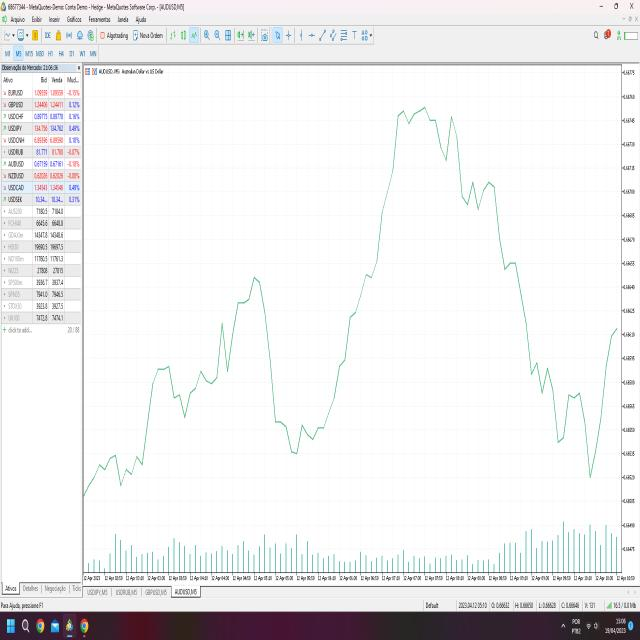fundo_duplo: (532, 360, 614, 501)
oco_inv: (255, 346, 345, 468)
